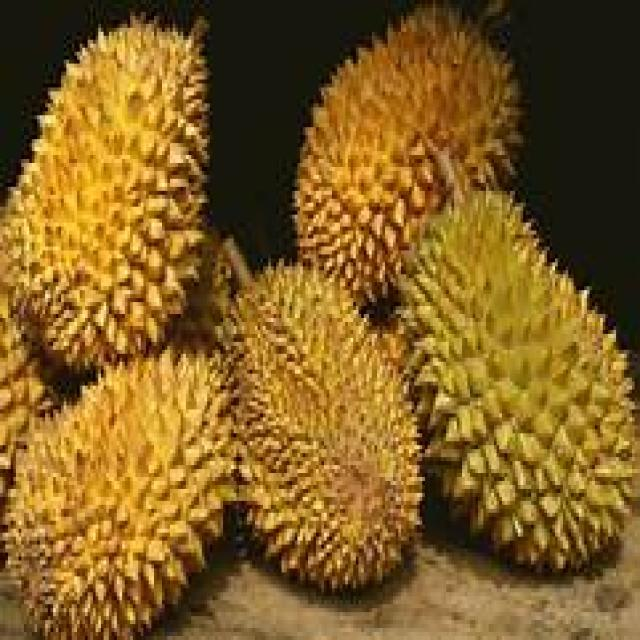mature: (0, 21, 209, 370), (298, 7, 522, 308), (9, 350, 232, 637), (236, 266, 421, 588)
